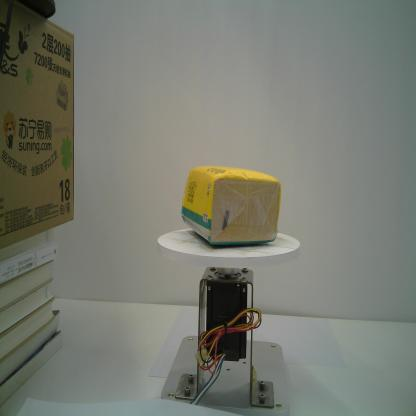Tissue: (179, 163, 283, 250)
